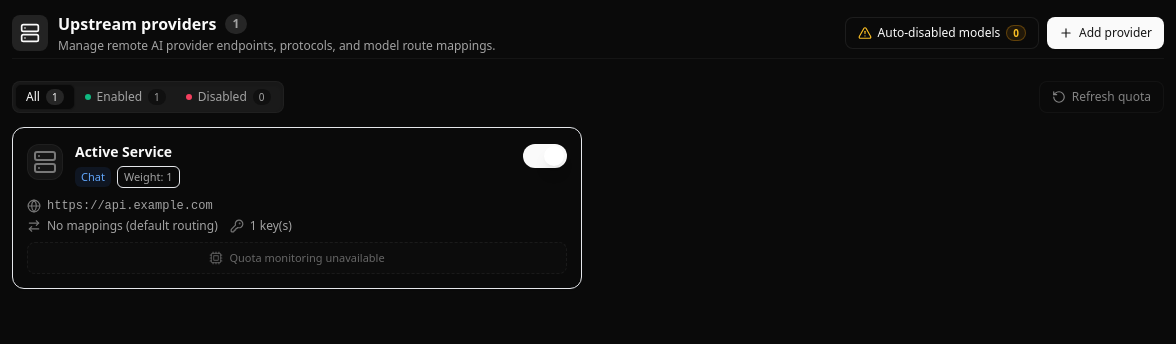
UpstreamProviderList 状态展示与过滤 › 过滤后无匹配项时显示微空态并通过重置按钮恢复全部
// 点击已禁用，过滤结果应为空
Click the button with test id "filter-status-disabled": (228, 97) [176, 85, 280, 109]
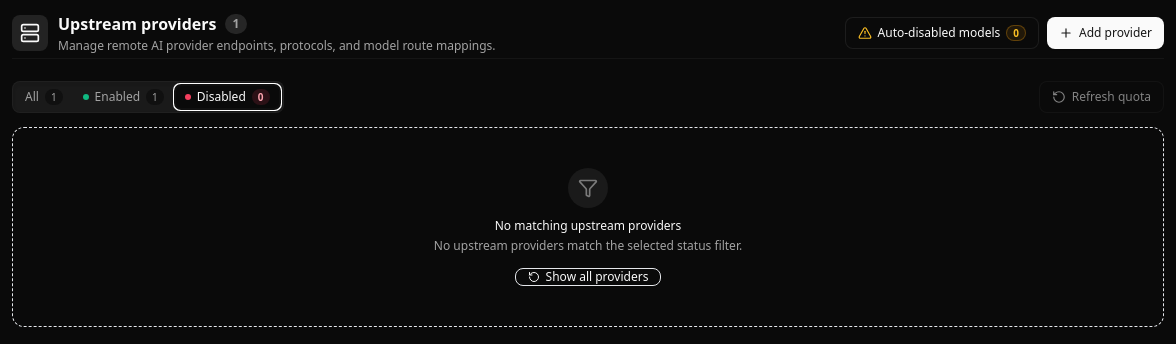
Now the element with test id "ai-gateway-providers-filter-empty" is shown, box [12, 127, 1164, 327]
Now the heading "No matching upstream providers" is shown, box [495, 218, 681, 234]
// 点击重置过滤按钮
Click the button "Show all providers": (588, 277) [515, 268, 661, 286]
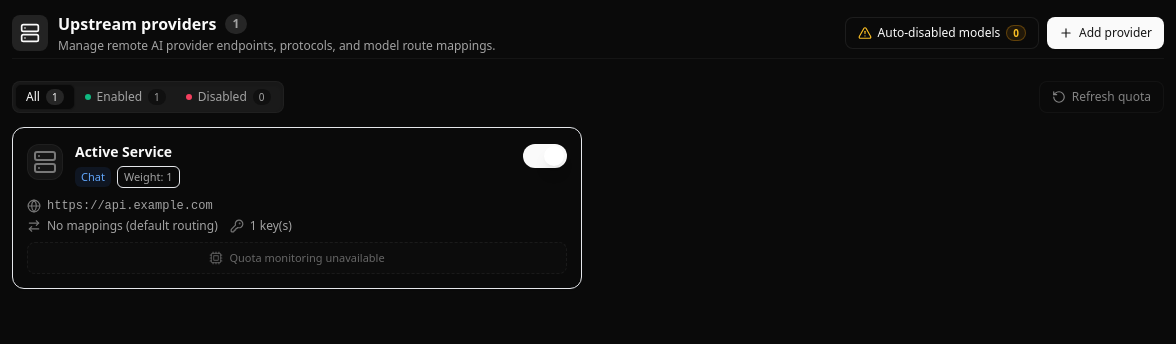
Now the button "Active Service" is shown, box [75, 142, 511, 162]
